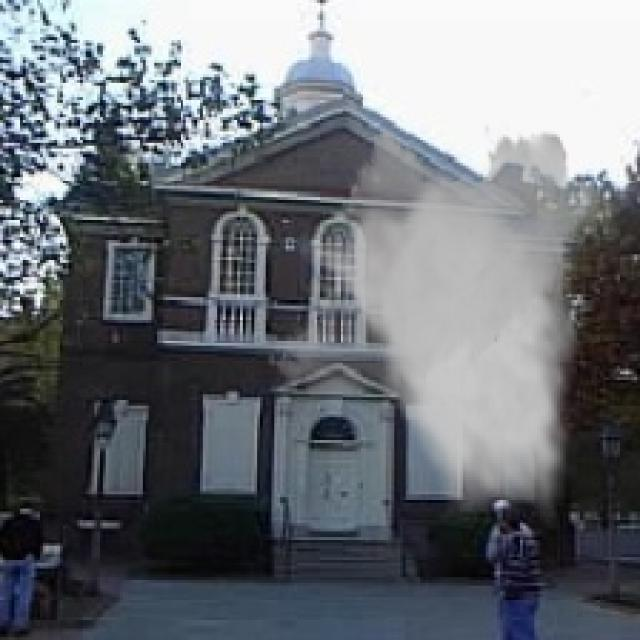smoke: (266, 120, 611, 529)
